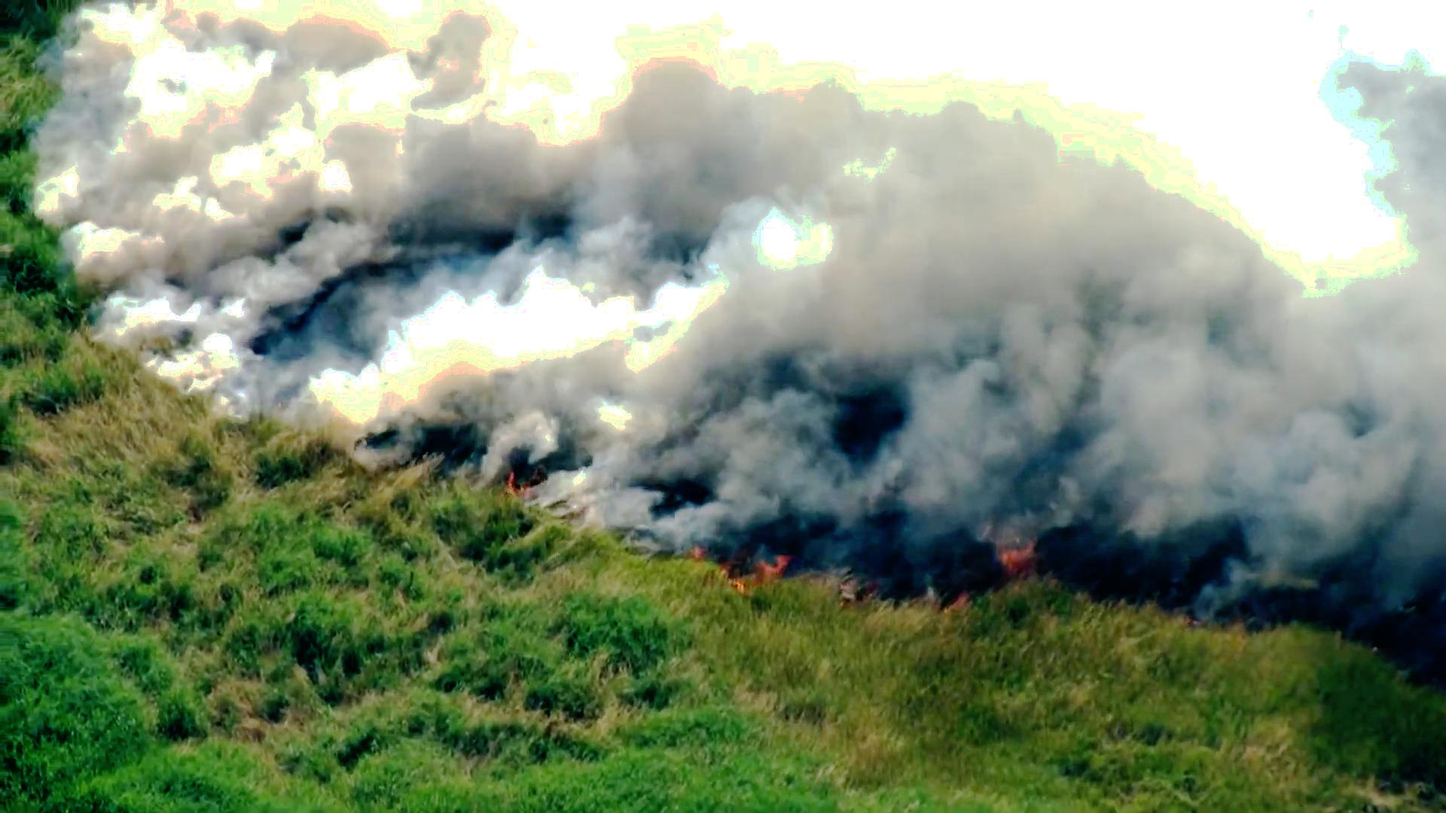smoke: (260, 179, 1109, 523), (857, 249, 1446, 627), (64, 10, 405, 369)
